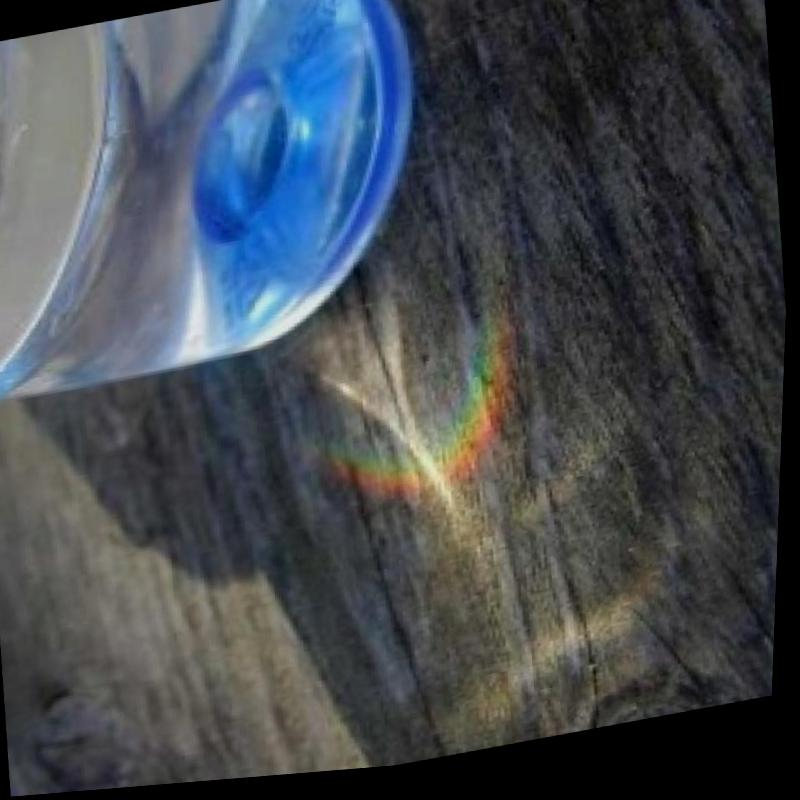botella: (0, 0, 448, 408)
